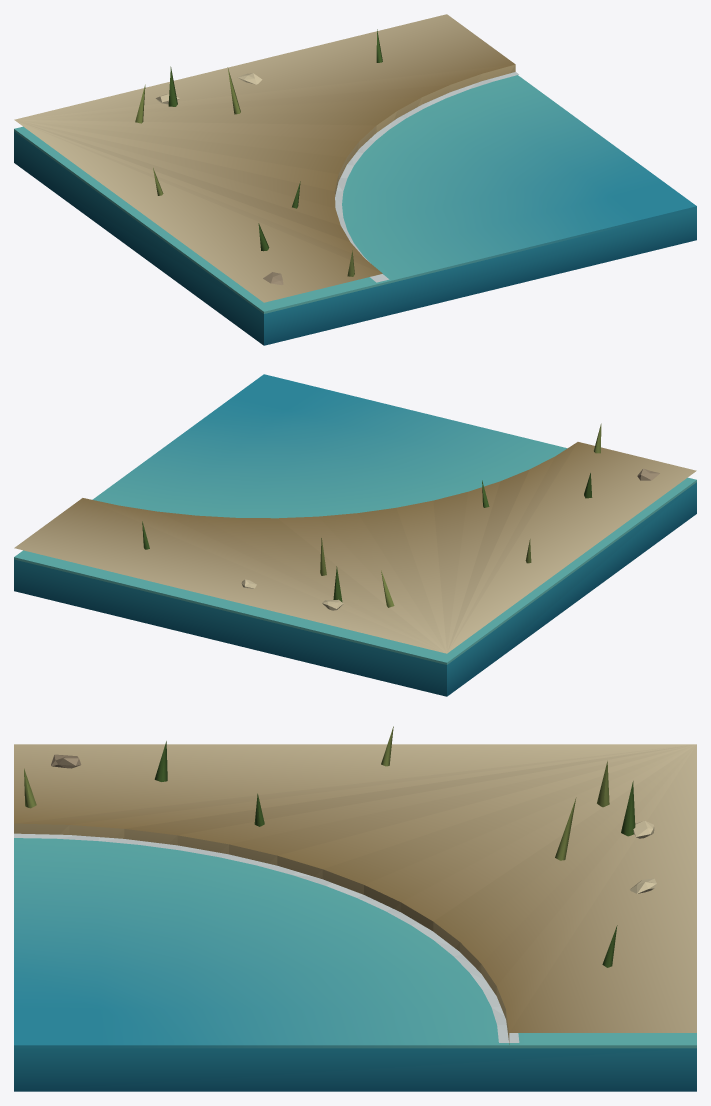
The model's file is shore-corner-in-oasis-tile.glb.
3 views of the same model, one above another, from view 1: azimuth 30°, elevation 25°; view 2: azimuth 150°, elevation 25°; view 3: azimuth 270°, elevation 25° (orthographic). The views are drawn at different scales.
Parts seen in each view (by area): view 1: shore_corner_in_oasis_tile; view 2: shore_corner_in_oasis_tile; view 3: shore_corner_in_oasis_tile.
Part boxes in pixels (bbox=[...]): shore_corner_in_oasis_tile: bbox=[14, 14, 696, 345]; shore_corner_in_oasis_tile: bbox=[14, 374, 696, 696]; shore_corner_in_oasis_tile: bbox=[14, 726, 696, 1091].
Bounding box in the file's own units: 4 × 0.771 × 4.
